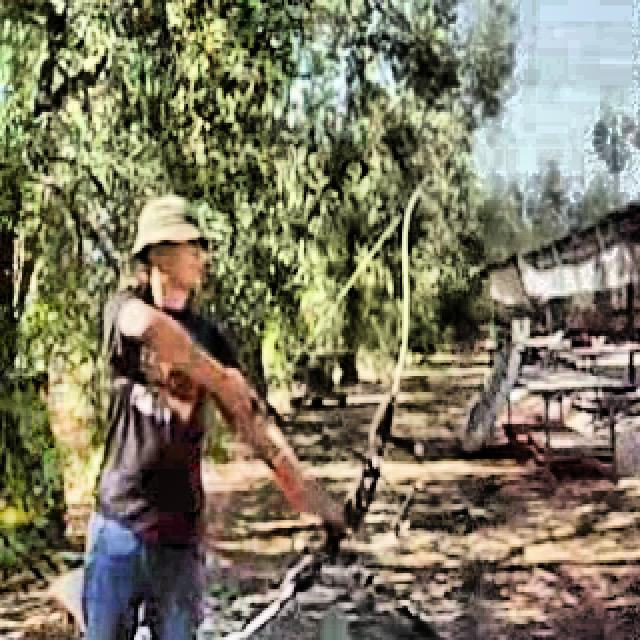I: (73, 164, 370, 640)
